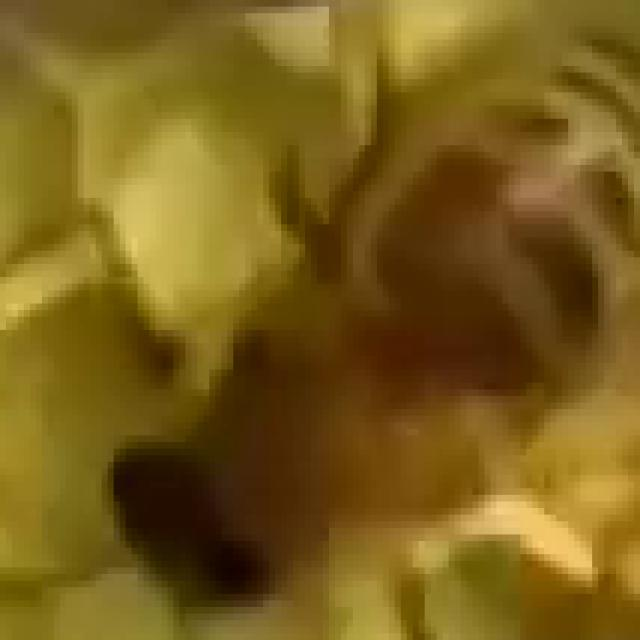honeybee: (89, 80, 622, 618)
